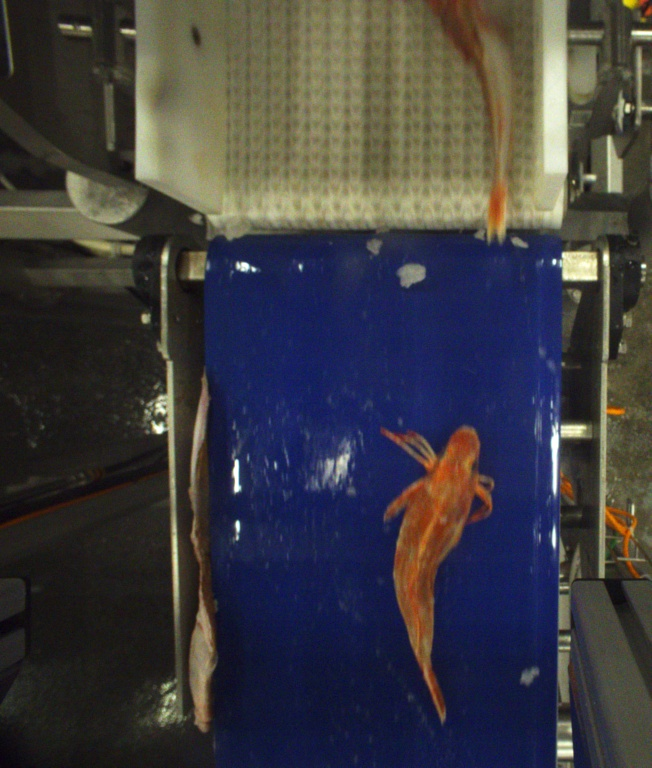GUU: (375, 426, 495, 725)
